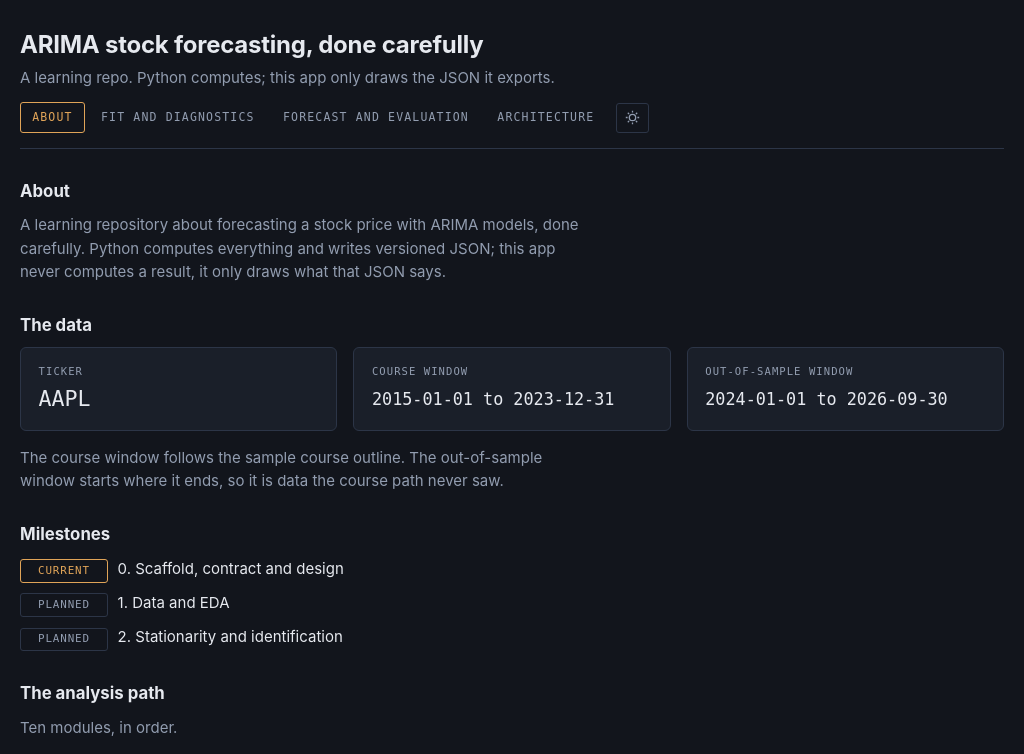
Scenario: App (integration) › offers the forecast page after the fit page once meta lists its eight files, and loads evaluation.json and the first forecast file only when it opens
The width and height of the screenshot is (1024, 754).
Check: the text "AAPL" is shown, box [39,386,91,411]
Click the link "Forecast and evaluation" at (376, 117), box [283,110,469,124]
(page scrolled)
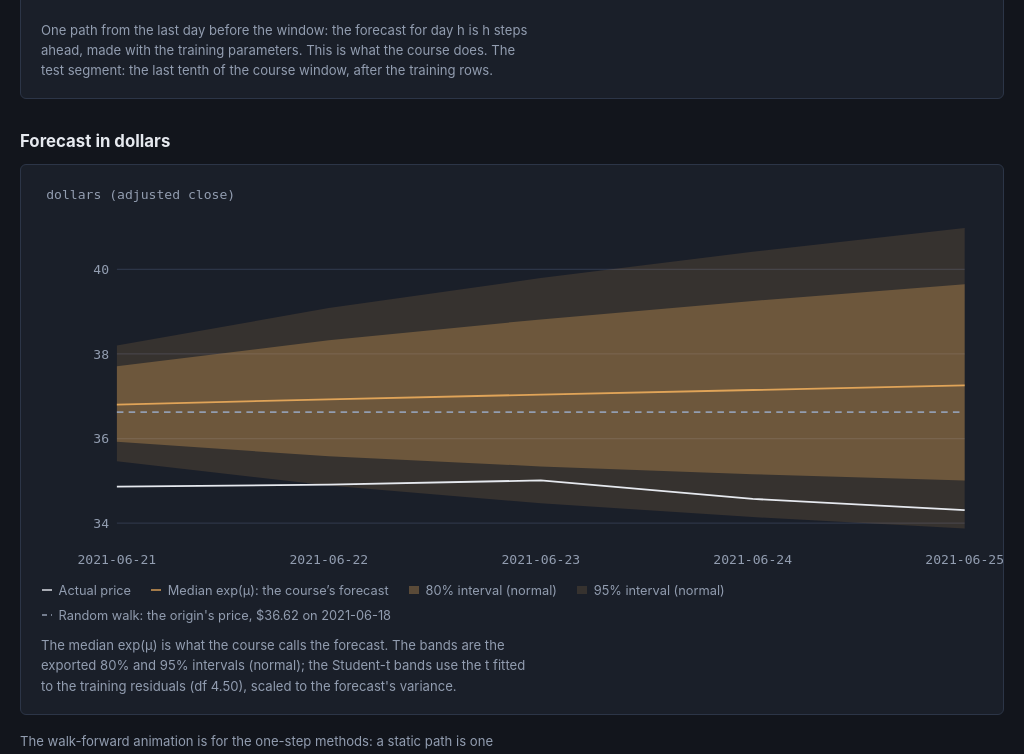
Check: the picture named "Forecast of AIC choice (ADR-0002), Static multi-step" is shown, box [41,182,983,575]
